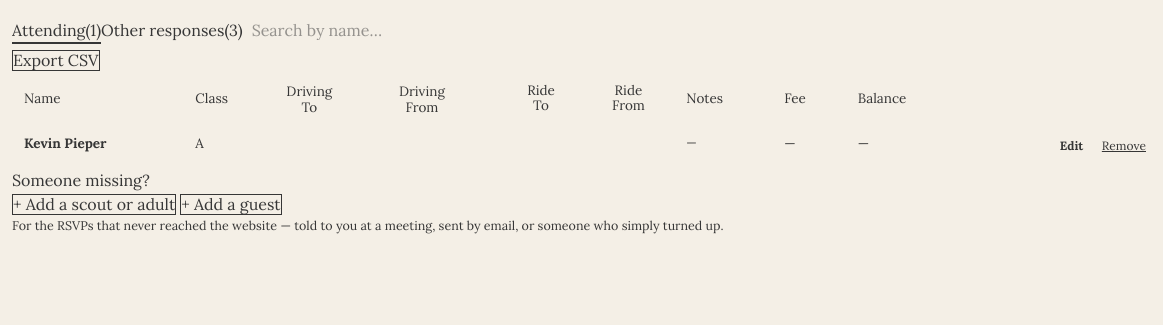
Scenario: Roster grid — main tab is attending people only › OtherTab_ShowsDeclinedWaitlistedAndRemoved_WithStatus_AndACount
Step 1. Click the tab "Other responses (3)" → (172, 31), box top-left (101, 18), bottom-right (243, 44)
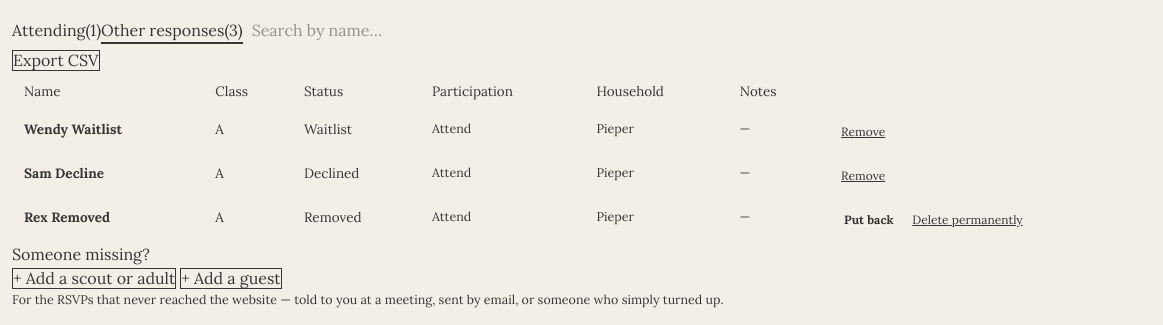
Check: the text "Kevin Pieper" is gone
Check: the text "Waitlist" is shown, box top-left (304, 119), bottom-right (352, 140)
Check: the text "Declined" is shown, box top-left (304, 163), bottom-right (360, 184)
